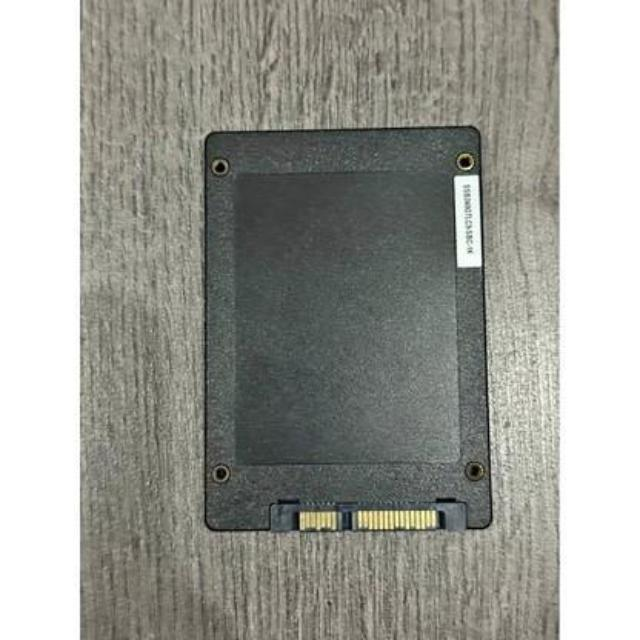DISK: (200, 128, 497, 544)
